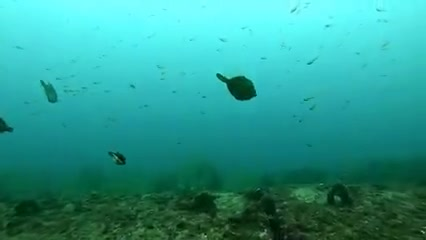kawahagi: (210, 70, 265, 106)
smallfish: (38, 80, 68, 107), (106, 149, 130, 169)
